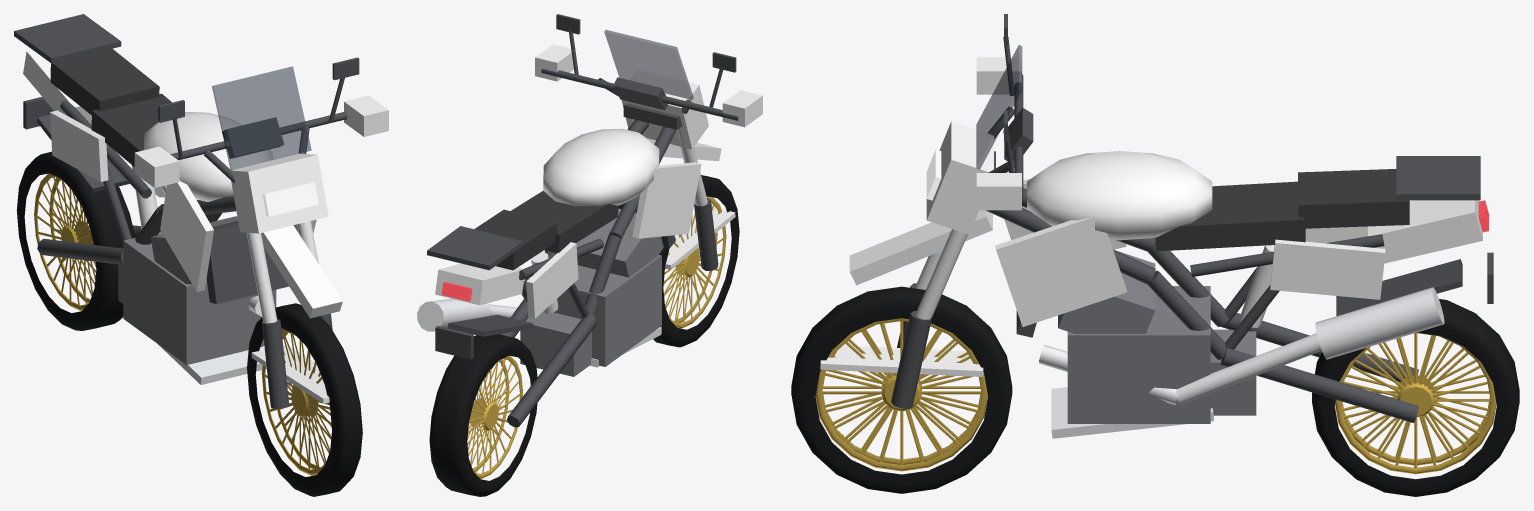
The model's file is bmw_gs_moto.glb.
3 views of the same model, side by side, from view 1: azimuth 30°, elevation 25°; view 2: azimuth 150°, elevation 25°; view 3: azimuth 270°, elevation 25° (orthographic). The views are drawn at different scales.
Visible parts, largest first — view 1: body_trim (×2), body_paint (×2), tire (×2), rim (×4), body_glass, body_chrome (×2), headlights; view 2: body_trim (×2), body_paint (×2), tire (×2), rim (×4), body_glass, body_chrome (×2), taillights; view 3: body_trim (×2), body_paint (×2), tire (×2), rim (×4), body_chrome (×2), body_glass.
Part boxes in pixels (x1,y1,x2,y2): body_trim (×2): [14, 14, 359, 408]; body_paint (×2): [23, 49, 388, 403]; tire (×2): [16, 151, 362, 496]; rim (×4): [34, 173, 331, 475]; body_glass: [212, 66, 311, 169]; body_chrome (×2): [131, 165, 318, 384]; headlights: [262, 182, 318, 216]; body_trim (×2): [427, 14, 738, 427]; body_paint (×2): [435, 44, 762, 318]; tire (×2): [429, 175, 739, 496]; rim (×4): [467, 196, 726, 478]; body_glass: [604, 30, 693, 99]; body_chrome (×2): [417, 119, 707, 367]; taillights: [441, 282, 472, 301]; body_trim (×2): [891, 14, 1493, 423]; body_paint (×2): [820, 57, 1482, 376]; tire (×2): [791, 286, 1519, 496]; rim (×4): [815, 318, 1496, 474]; body_chrome (×2): [915, 229, 1444, 438]; body_glass: [976, 45, 1022, 169].
Bounding box in the file's own units: 0.94 × 1.44 × 2.24.
